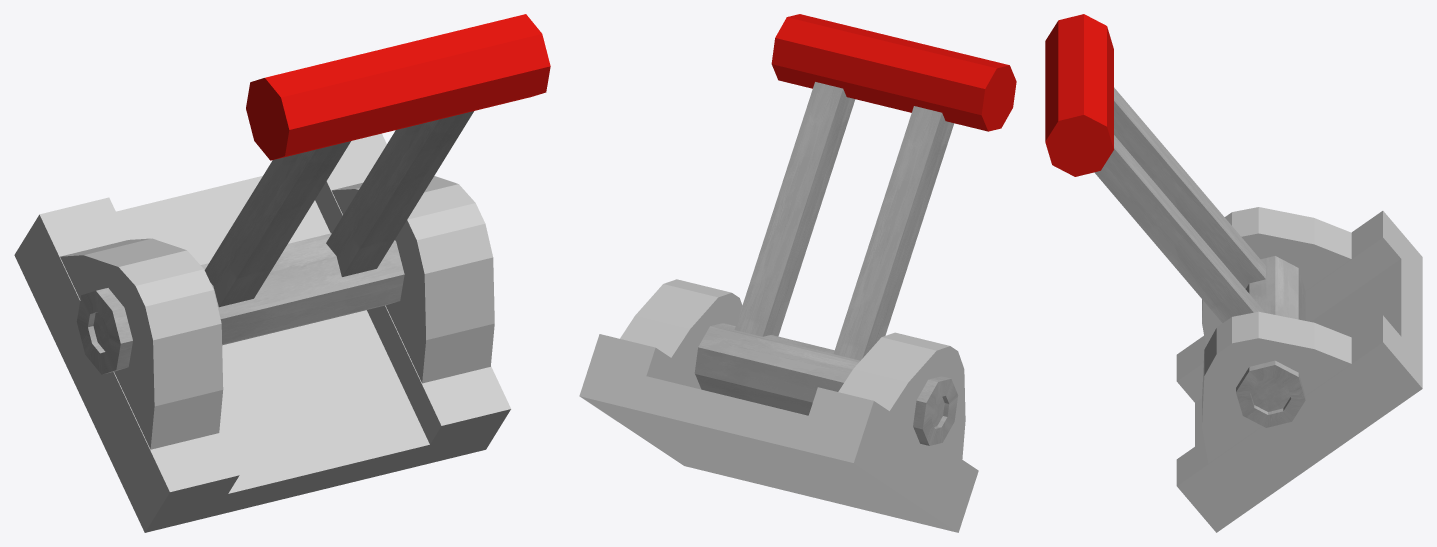
Rendered from palanca.fbx.
3 views of the same model, side by side, from view 1: azimuth 30°, elevation 25°; view 2: azimuth 150°, elevation 25°; view 3: azimuth 270°, elevation 25° (orthographic). The views are drawn at different scales.
Parts seen in each view (by area): view 1: palanca, Palanca cilindro; view 2: Palanca cilindro, palanca; view 3: palanca, Palanca cilindro.
Boxes of the visible parts, x1,y1,x2,y2 form: palanca: (14, 133, 510, 532); Palanca cilindro: (76, 14, 550, 374); Palanca cilindro: (694, 14, 1016, 445); palanca: (579, 279, 978, 532); palanca: (1176, 207, 1422, 532); Palanca cilindro: (1045, 14, 1305, 427).
Bounding box in the file's own units: 14.27 × 19.03 × 16.23.
